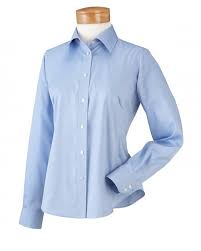S_shirt: (17, 30, 188, 225)
